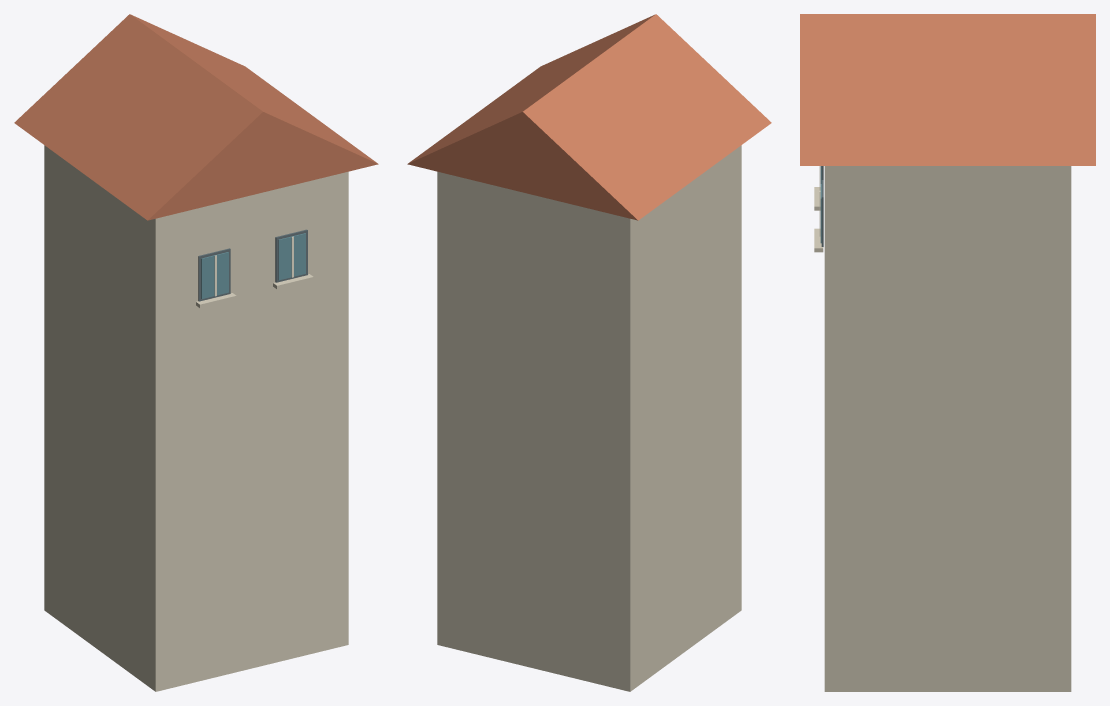
The model's file is bell-tower.glb.
3 views of the same model, side by side, from view 1: azimuth 30°, elevation 25°; view 2: azimuth 150°, elevation 25°; view 3: azimuth 270°, elevation 25° (orthographic). The views are drawn at different scales.
Size of the model in its own units: 6 by 14 by 6.
